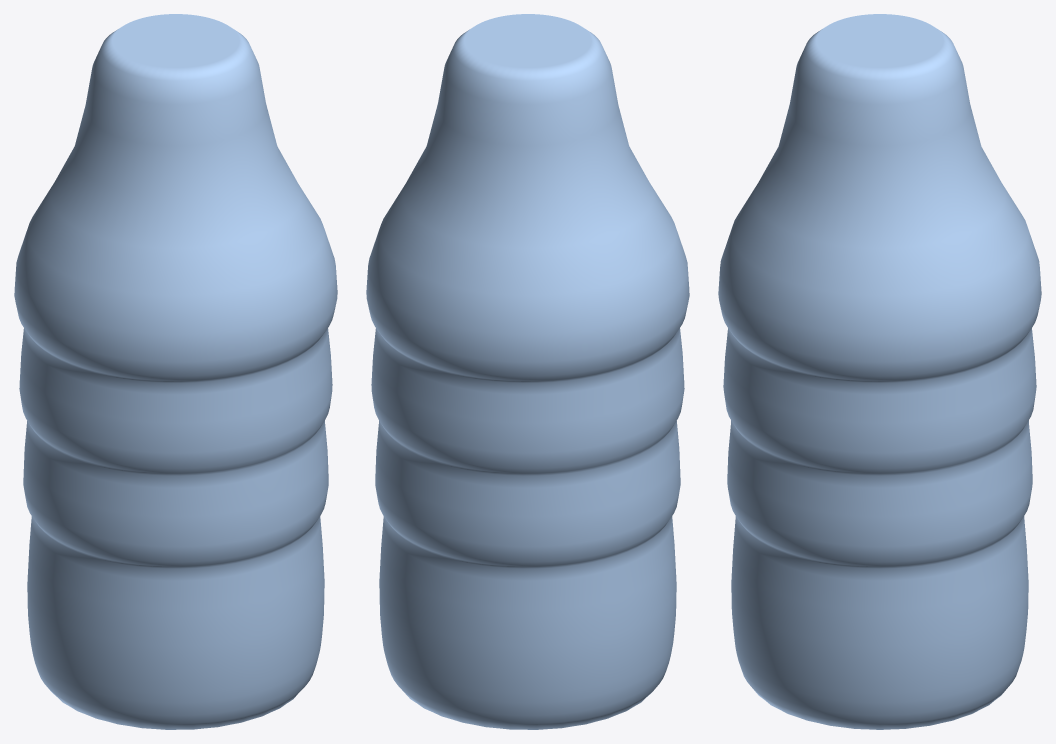
File: blue_bottle.fbx
The picture shows the model from 3 angles, left to right: view 1: azimuth 30°, elevation 25°; view 2: azimuth 150°, elevation 25°; view 3: azimuth 270°, elevation 25°; orthographic projection.
Visible parts, largest first — view 1: Cylinder.002; view 2: Cylinder.002; view 3: Cylinder.002.
Part boxes in pixels (x1,y1,x2,y2): Cylinder.002: (14,14,337,729); Cylinder.002: (366,14,689,729); Cylinder.002: (718,14,1041,729).
Size of the model in its own units: 14732 by 32414 by 14732.
